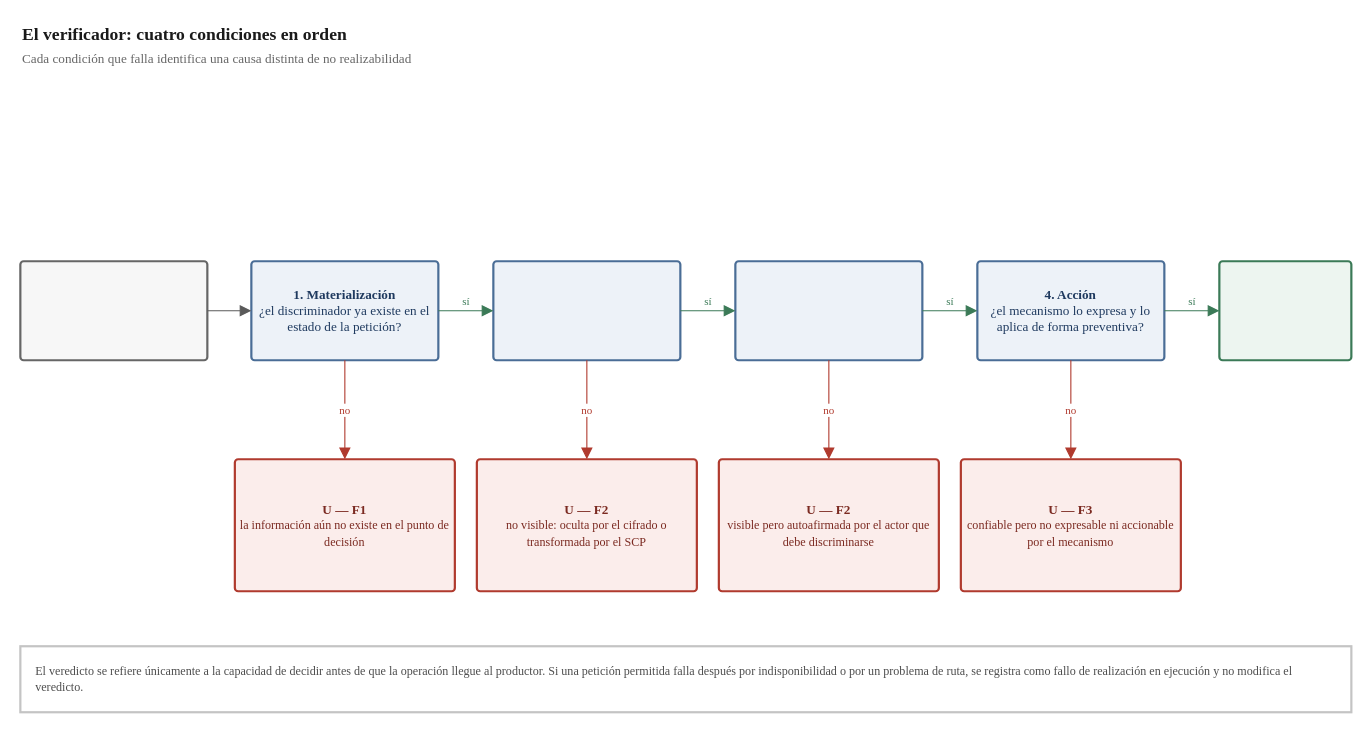
Some shapes in this 1371 by 732 pixel diagram are drawn without their labels. The centre of each missing label's shape, as x and y in pixels:
"2. Visibilidad ¿el PEP puede observarlo en su ubicación y capa?" goes at (586,310).
"3. Confianza ¿su procedencia resiste el modelo de amenaza?" goes at (828,310).
"Entrada intent I evaluado sobre el perfil Π" goes at (113,310).
"R realizable" goes at (1285,310).
